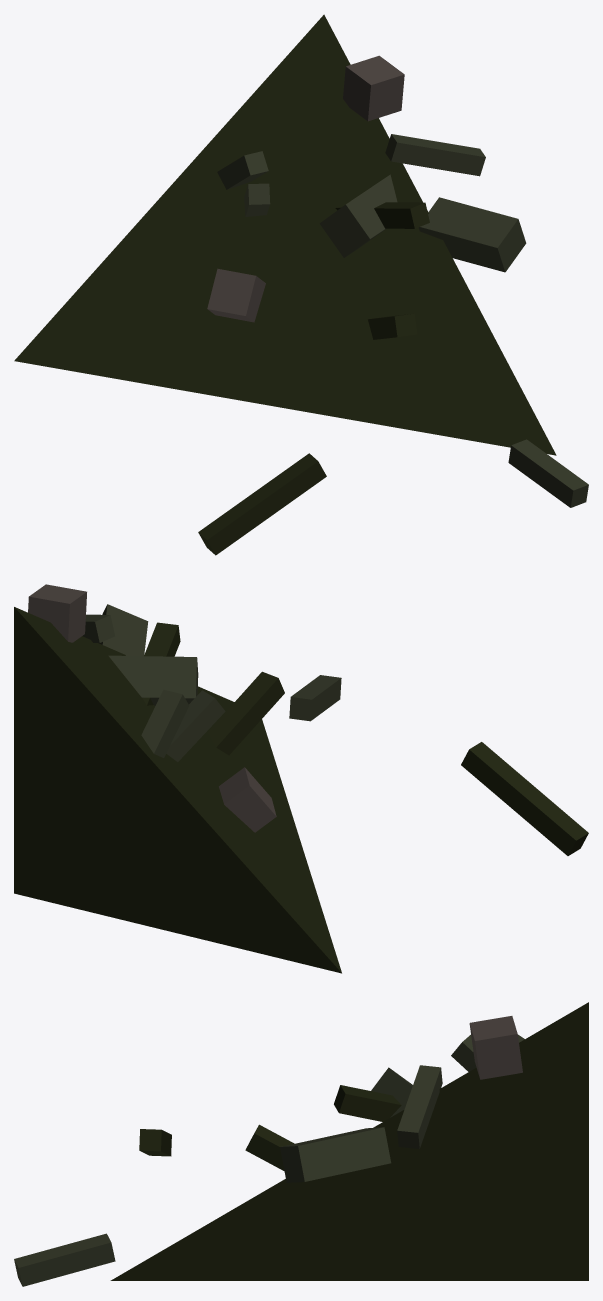
Rendered from SM_PilaZombi_RemateIzq_Altura3_s0_LOD1.fbx.
The picture shows the model from 3 angles, top to bottom: view 1: azimuth 30°, elevation 25°; view 2: azimuth 150°, elevation 25°; view 3: azimuth 270°, elevation 25°; orthographic projection. The views are drawn at different scales.
Visible parts, largest first — view 1: SM_pila_zombis_v2_LOD1; view 2: SM_pila_zombis_v2_LOD1; view 3: SM_pila_zombis_v2_LOD1.
Boxes of the visible parts, x1,y1,x2,y2 form: SM_pila_zombis_v2_LOD1: (14, 14, 588, 555); SM_pila_zombis_v2_LOD1: (14, 584, 588, 973); SM_pila_zombis_v2_LOD1: (14, 1002, 588, 1286).
Size of the model in its own units: 2.65 by 1.92 by 3.18.
